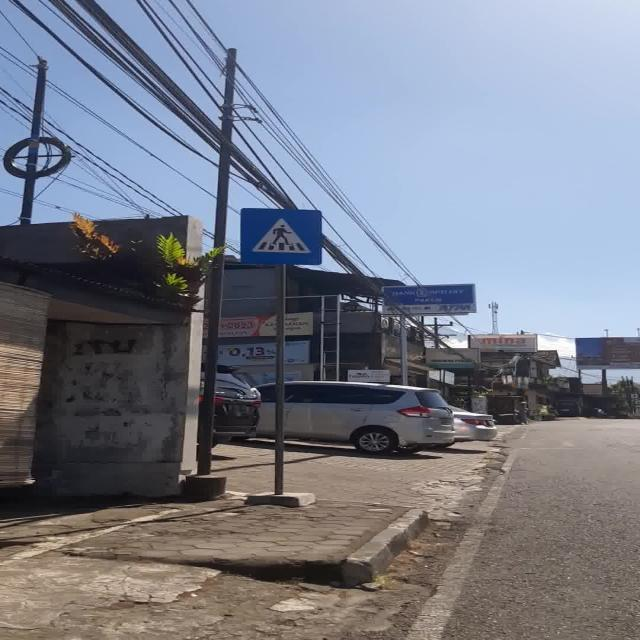Perintah Jalur Penyebrangan: (240, 208, 322, 266)
